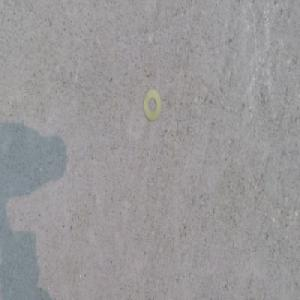Washer: (142, 90, 161, 122)
